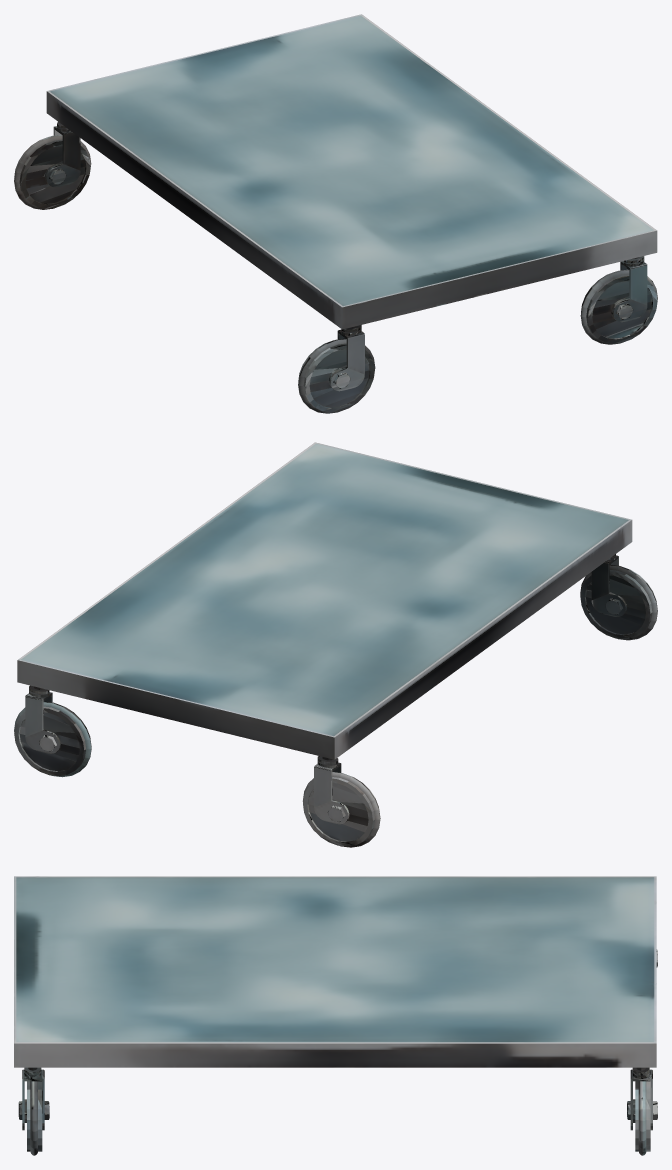
3 views of the same model, one above another, from view 1: azimuth 30°, elevation 25°; view 2: azimuth 150°, elevation 25°; view 3: azimuth 270°, elevation 25° (orthographic). The views are drawn at different scales.
Visible parts, largest first — view 1: Node; view 2: Node; view 3: Node.
Part boxes in pixels (x1,y1,x2,y2): Node: (14, 14, 657, 413); Node: (14, 442, 657, 847); Node: (14, 876, 657, 1155).
Bounding box in the file's own units: 0.4959 × 0.1469 × 0.7.
1 material, 1 textured.
